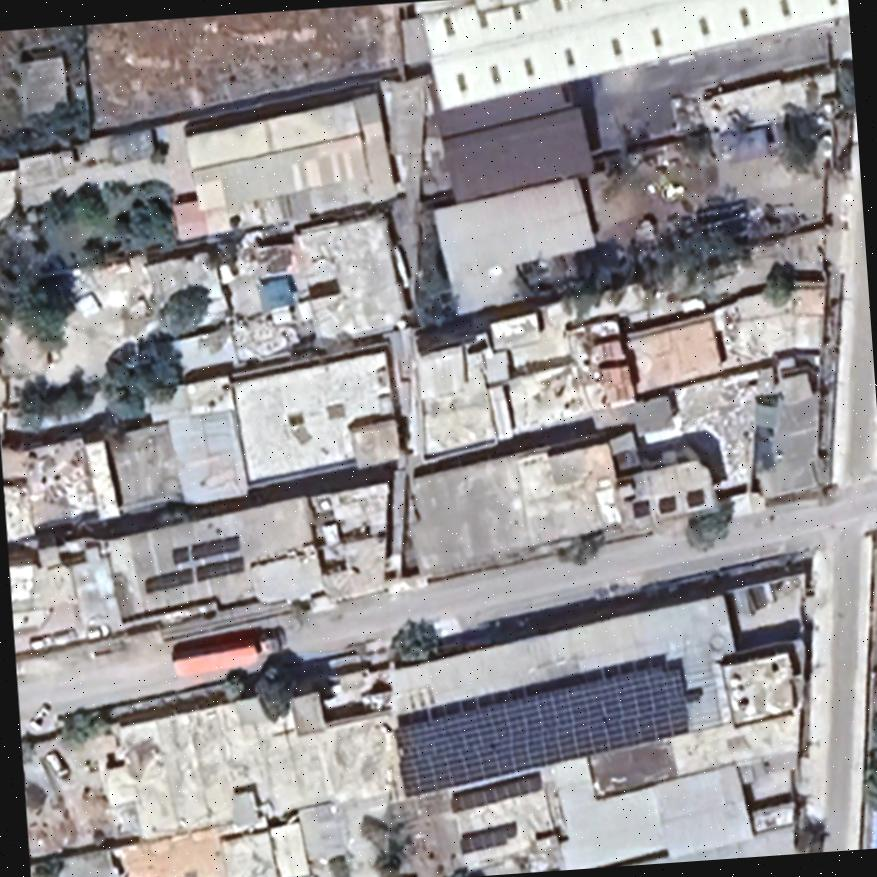Solarpanel: (387, 653, 696, 802), (445, 764, 546, 817), (135, 549, 246, 593), (162, 525, 243, 568), (454, 818, 511, 857)
